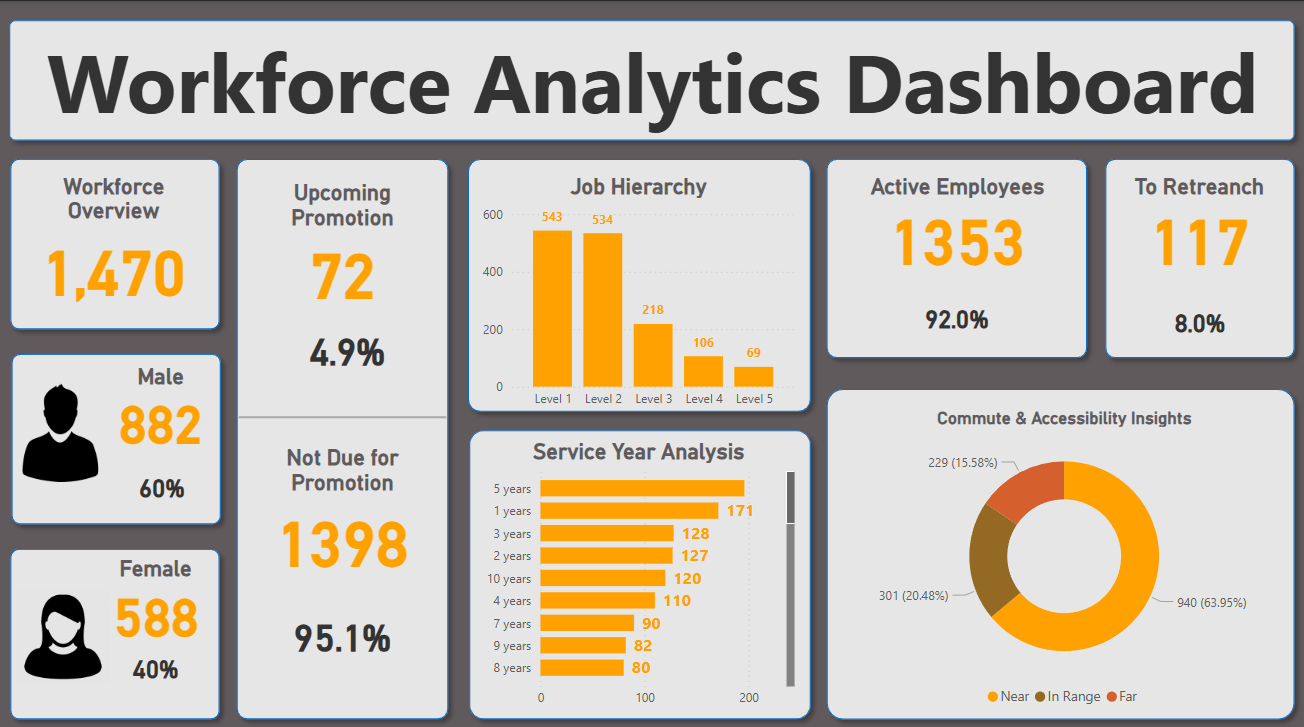

This screenshot's page, from the dashboard's own definition file:
{"tool":"powerbi","page":{"name":"Home","canvas":[1280,720],"ordinal":0},"visuals":[{"type":"shape","box":[0,9.8,1279.8,136.2],"z":0},{"type":"shape","box":[234.4,391.4,203.7,41.7],"z":1000},{"type":"shape","box":[1.2,528.8,223.3,185.3],"z":1000,"group":"g7"},{"type":"shape","box":[223.3,146,225.8,568.1],"z":2000,"group":"g1"},{"type":"shape","box":[450.3,146,354.6,266.3],"z":3000},{"type":"columnChart","title":"Job Hierarchy","fields":{"Y":["All Measures.Total Employee"],"Category":["HR Analytics Data.Job Levels"]},"box":[468.7,169.3,316.6,239.3],"z":4000},{"type":"shape","box":[802.5,146,273.6,213.5],"z":5000,"group":"g5"},{"type":"shape","box":[451.5,412.3,353.4,301.8],"z":5000},{"type":"textbox","title":"Workforce Analytics Dashboard","box":[14.7,23.3,1251.5,110.4],"z":6000},{"type":"shape","box":[1076.1,146,203.7,213.5],"z":6000,"group":"g6"},{"type":"group","id":"g1","title":"Group 1","box":[223.3,146,225.8,568.1],"z":7000},{"type":"shape","box":[802.5,371.8,477.3,342.4],"z":7000,"group":"g4"},{"type":"group","id":"g2","title":"Group 2","box":[1.2,146,223.3,185.3],"z":8000},{"type":"card","title":"Female","fields":{"Values":["All Measures.Female"]},"box":[93.2,544.8,119,84.7],"z":8000,"group":"g7"},{"type":"group","id":"g3","title":"Group 3","box":[2.5,337.4,223.3,185.3],"z":9000},{"type":"group","id":"g4","title":"Group 7","box":[802.5,371.8,477.3,342.3],"z":10000},{"type":"image","box":[11,553.3,101.8,141.1],"z":10000,"group":"g7"},{"type":"group","id":"g5","title":"Group 8","box":[802.5,146,273.6,213.5],"z":11000},{"type":"card","title":"Upcoming Promotion","fields":{"Values":["All Measures.Due for promotion"]},"box":[242.5,175.4,186.5,130.1],"z":11000,"group":"g1"},{"type":"group","id":"g6","title":"Group 9","box":[1076.1,146,203.7,213.5],"z":12000},{"type":"card","title":"Promotion Due","fields":{"Values":["All Measures.%dueforpromotion"]},"box":[285.5,312.9,110.4,57.7],"z":12000,"group":"g1"},{"type":"shape","box":[234.4,387.7,203.7,41.7],"z":13000},{"type":"card","title":"Not Due for Promotion","fields":{"Values":["All Measures.Not due"]},"box":[234.3,435.6,203.7,136.2],"z":13000,"group":"g1"},{"type":"group","id":"g7","title":"Group 4","box":[1.2,528.8,223.3,185.3],"z":14000},{"type":"card","title":"Promotion Due","fields":{"Values":["All Measures.%notdue"]},"box":[242.9,593.9,186.5,57.7],"z":14000,"group":"g1"},{"type":"barChart","title":"Service Year Analysis","fields":{"Category":["HR Analytics Data.Service Years"],"Y":["All Measures.Total Employee"]},"box":[468.7,429.5,316.6,272.4],"z":15000},{"type":"card","title":"Active Employees","fields":{"Values":["All Measures.On Service"]},"box":[818.5,169.3,242.9,100.6],"z":18000,"group":"g5"},{"type":"card","title":"Male Employees","fields":{"Values":["All Measures.On Service %"]},"box":[882.3,273.6,114.1,77.3],"z":19000,"group":"g5"},{"type":"card","title":"To Retreanch","fields":{"Values":["All Measures.To Retreach"]},"box":[1092.1,169.3,170.6,100.6],"z":20000,"group":"g6"},{"type":"card","title":"Male Employees","fields":{"Values":["All Measures.% To Retreach"]},"box":[1124,279.7,108,71.2],"z":21000,"group":"g6"},{"type":"donutChart","title":"Commute & Accessibility Insights","fields":{"Category":["HR Analytics Data.Distance Status"],"Y":["All Measures.Total Employee"]},"box":[821.7,398.2,445.4,303.1],"z":22000,"group":"g4"},{"type":"shape","box":[2.5,337.4,223.3,185.3],"z":24000,"group":"g3"},{"type":"shape","box":[1.2,146,223.3,185.3],"z":25000,"group":"g2"},{"type":"card","title":"Workforce Overview","fields":{"Values":["All Measures.Total Employee"]},"box":[11,169.3,201.2,137.4],"z":26000,"group":"g2"},{"type":"card","title":"Male","fields":{"Values":["All Measures.Male"]},"box":[104.3,355.8,106.7,84.7],"z":27000,"group":"g3"},{"type":"card","fields":{"Values":["All Measures.Male %"]},"box":[114.2,451.5,89.6,51.5],"z":28000,"group":"g3"},{"type":"card","fields":{"Values":["All Measures.Female %"]},"box":[108,629.5,89.6,51.5],"z":28000},{"type":"image","box":[3.7,370.5,110.4,106.7],"z":29000,"group":"g3"}]}

Visuals, with their boxes in screenshot pixels (x1, y1, x2, y2), scaled from the page's 1280x720 canvas onto the 1304x727 screenshot:
shape: <box>0,10,1303,147</box>
shape: <box>239,395,446,437</box>
shape: <box>1,534,229,721</box>
shape: <box>227,147,458,721</box>
shape: <box>459,147,820,416</box>
"Job Hierarchy" columnChart: <box>477,171,800,413</box>
shape: <box>818,147,1096,363</box>
shape: <box>460,416,820,721</box>
"Workforce Analytics Dashboard" textbox: <box>15,24,1290,135</box>
shape: <box>1096,147,1303,363</box>
"Group 1" group: <box>227,147,458,721</box>
shape: <box>818,375,1303,721</box>
"Group 2" group: <box>1,147,229,335</box>
"Female" card: <box>95,550,216,636</box>
"Group 3" group: <box>3,341,230,528</box>
"Group 7" group: <box>818,375,1303,721</box>
image: <box>11,559,115,701</box>
"Group 8" group: <box>818,147,1096,363</box>
"Upcoming Promotion" card: <box>247,177,437,308</box>
"Group 9" group: <box>1096,147,1303,363</box>
"Promotion Due" card: <box>291,316,403,374</box>
shape: <box>239,391,446,434</box>
"Not Due for Promotion" card: <box>239,440,446,577</box>
"Group 4" group: <box>1,534,229,721</box>
"Promotion Due" card: <box>247,600,437,658</box>
"Service Year Analysis" barChart: <box>477,434,800,709</box>
"Active Employees" card: <box>834,171,1081,273</box>
"Male Employees" card: <box>899,276,1015,354</box>
"To Retreanch" card: <box>1113,171,1286,273</box>
"Male Employees" card: <box>1145,282,1255,354</box>
"Commute & Accessibility Insights" donutChart: <box>837,402,1291,708</box>
shape: <box>3,341,230,528</box>
shape: <box>1,147,229,335</box>
"Workforce Overview" card: <box>11,171,216,310</box>
"Male" card: <box>106,359,215,445</box>
card - All Measures.Male %: <box>116,456,208,508</box>
card - All Measures.Female %: <box>110,636,201,688</box>
image: <box>4,374,116,482</box>
